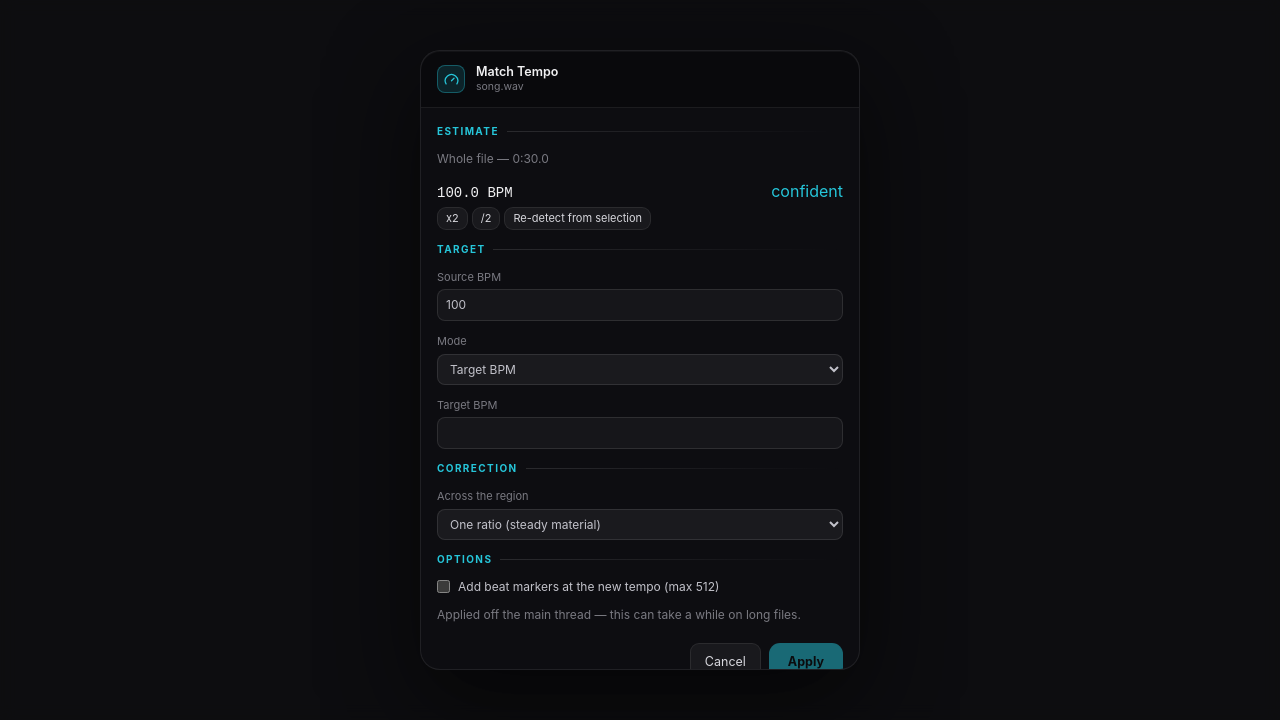
Test: TempoDialog › 4. x2 doubles the Source field via regridTempo; /2 halves it back
Click the button with test id "tempo-double-button" at [452, 218], box x1=437 y1=207 x2=468 y2=230
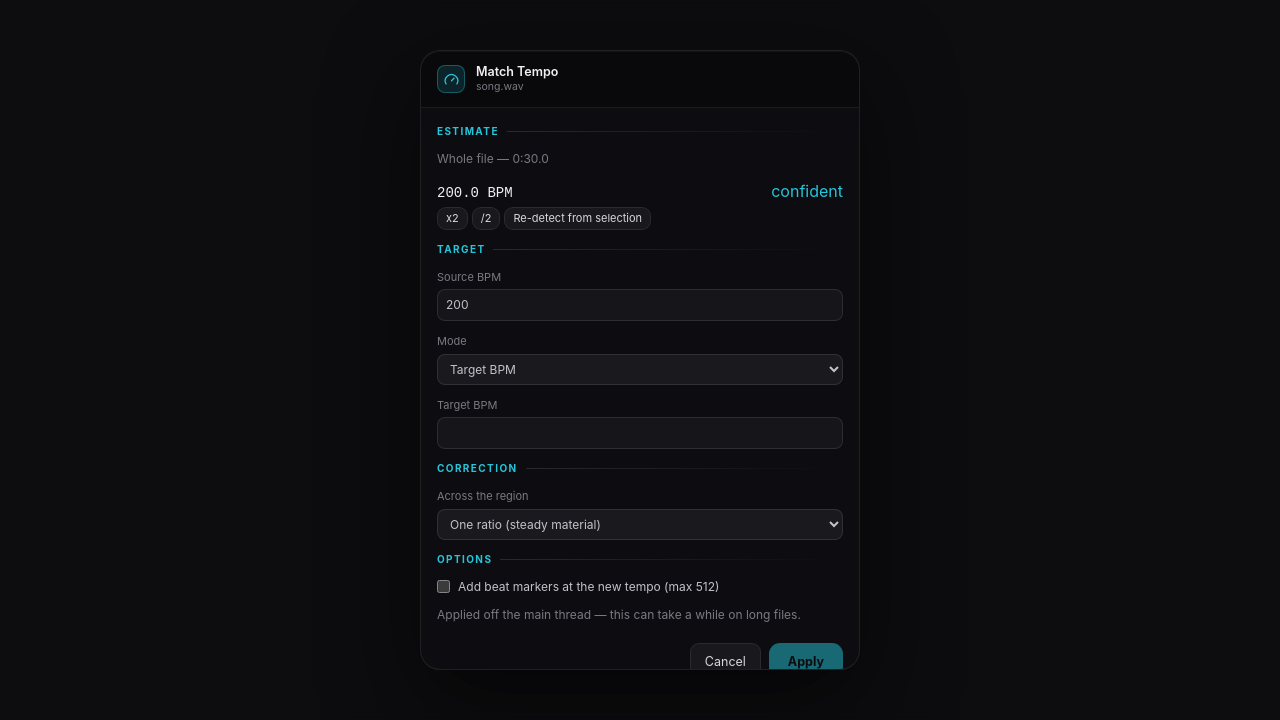
Expected: the number field with test id "tempo-source" holds "200", x1=437 y1=289 x2=843 y2=321
Click the button with test id "tempo-halve-button" at [486, 218], box x1=472 y1=207 x2=500 y2=230
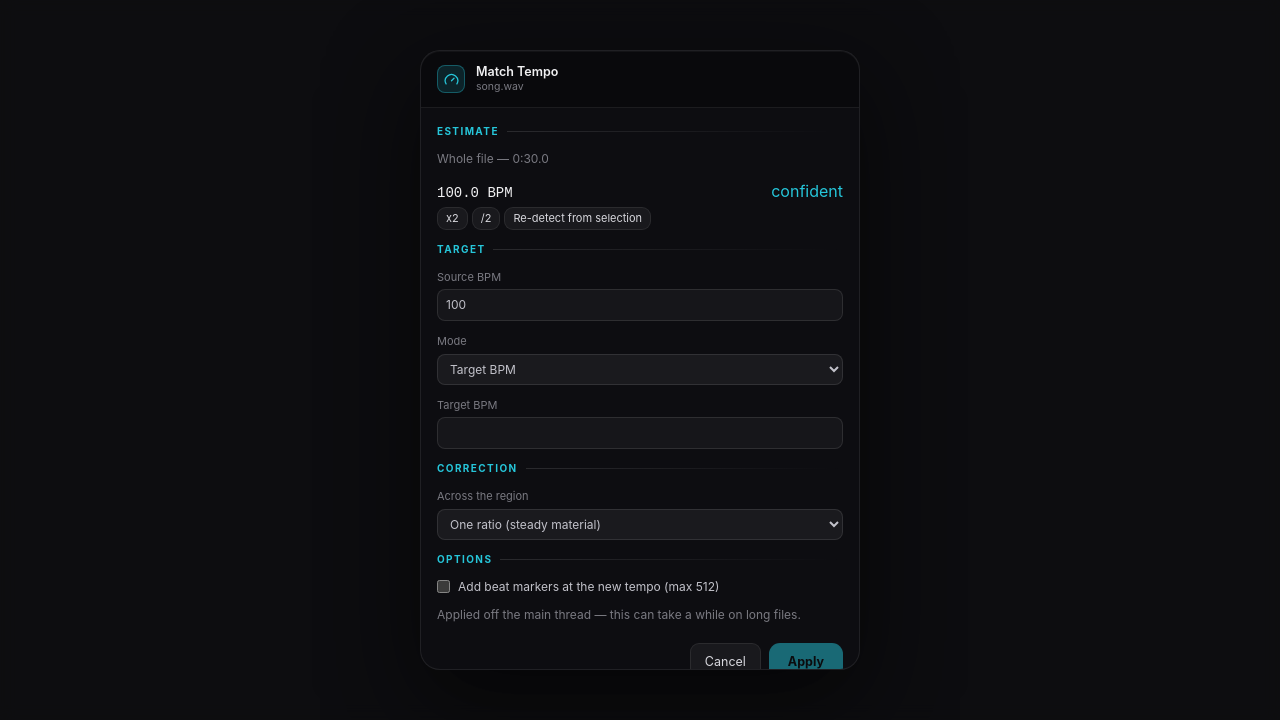
Expected: the number field with test id "tempo-source" holds "100", x1=437 y1=289 x2=843 y2=321
